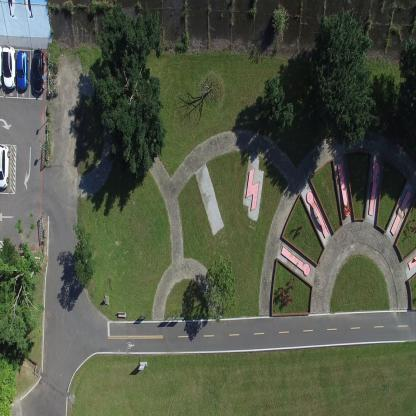car: (31, 48, 45, 92), (3, 44, 16, 90), (17, 50, 29, 90), (0, 145, 10, 190), (0, 45, 3, 89)
